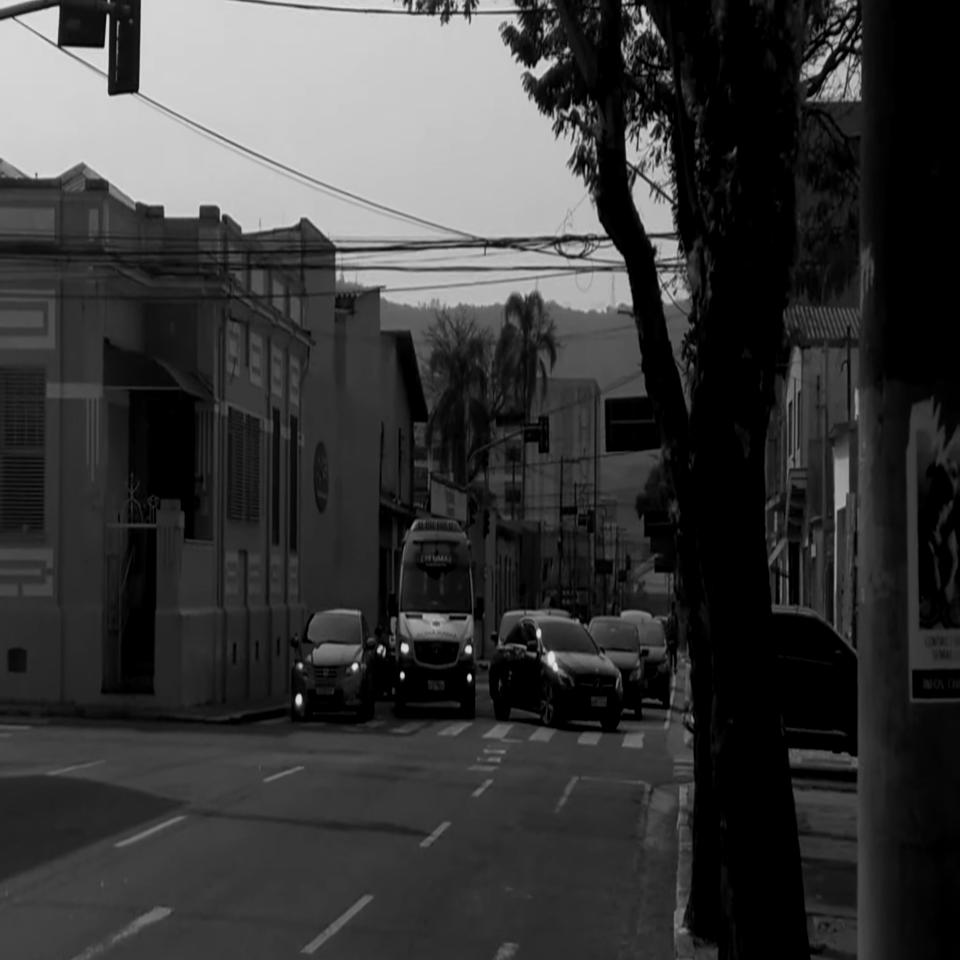ambulancia: (384, 514, 489, 723)
